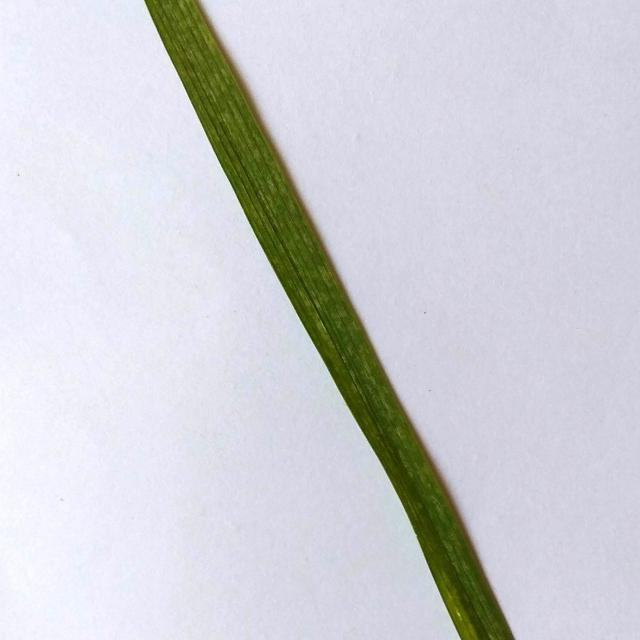Rice_Healthy: (145, 0, 514, 640)
